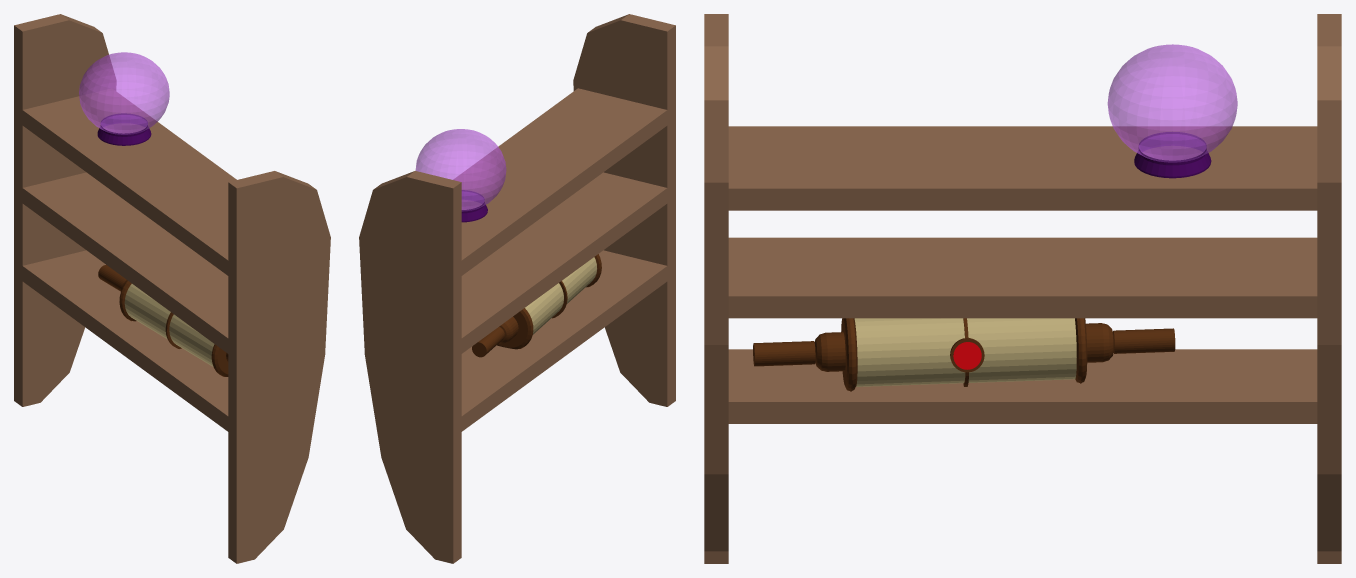
File: Estante.fbx
The picture shows the model from 3 angles, left to right: view 1: azimuth 30°, elevation 25°; view 2: azimuth 150°, elevation 25°; view 3: azimuth 270°, elevation 25°; orthographic projection. The views are drawn at different scales.
Visible parts, largest first — view 1: Полка, Волшебный шар, Свиток 2.003; view 2: Полка, Волшебный шар, Свиток 2.003; view 3: Полка, Свиток 2.003, Волшебный шар.
Boxes of the visible parts, bbox=[...] form: Полка: bbox=[14, 14, 330, 563]; Волшебный шар: bbox=[79, 52, 169, 145]; Свиток 2.003: bbox=[98, 265, 228, 376]; Полка: bbox=[359, 14, 675, 563]; Волшебный шар: bbox=[415, 129, 506, 222]; Свиток 2.003: bbox=[472, 254, 601, 357]; Полка: bbox=[704, 14, 1341, 563]; Свиток 2.003: bbox=[753, 318, 1175, 391]; Волшебный шар: bbox=[1107, 44, 1237, 178].
Size of the model in its own units: 17.62 by 67.15 by 72.18.
